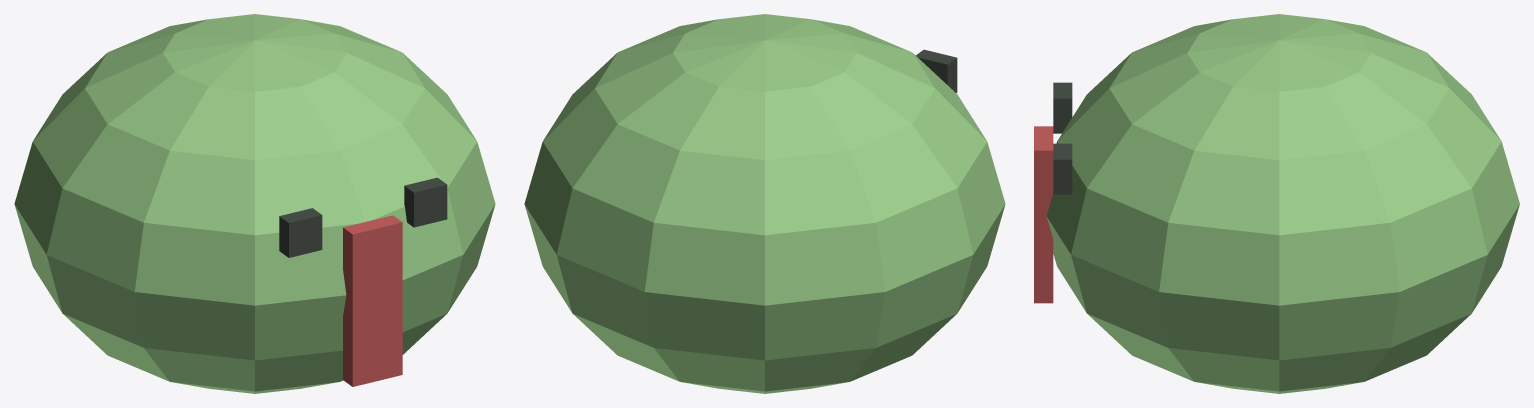
Rendered from slime.glb.
3 renders of one model, left to right at view 1: azimuth 30°, elevation 25°; view 2: azimuth 150°, elevation 25°; view 3: azimuth 270°, elevation 25°, orthographic.
Visible parts, largest first — view 1: BodyMesh; view 2: BodyMesh; view 3: BodyMesh.
Boxes of the visible parts, x1,y1,x2,y2 form: BodyMesh: (14, 14, 495, 393); BodyMesh: (524, 14, 1005, 393); BodyMesh: (1034, 14, 1519, 393).
Bounding box in the file's own units: 0.5 × 0.375 × 0.505.
